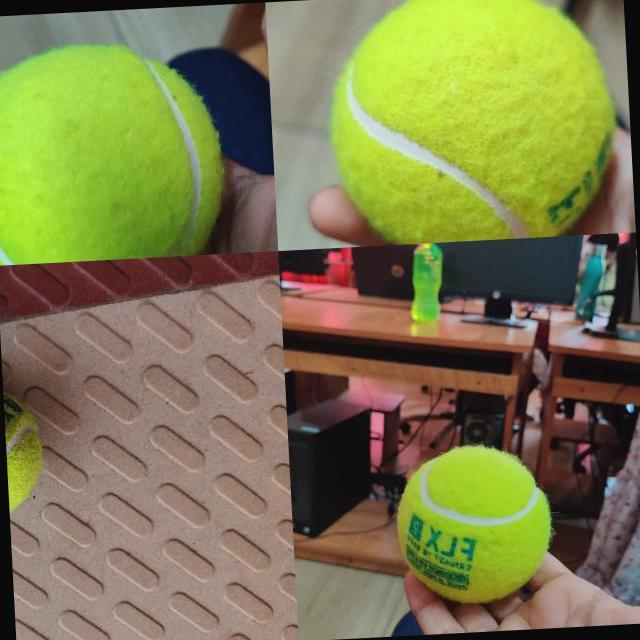Tennis Ball: (324, 0, 618, 247), (0, 37, 227, 265), (394, 442, 555, 607), (4, 380, 46, 520)
